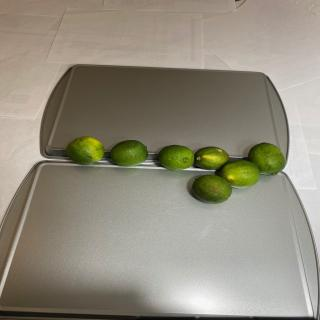Lemon: (248, 142, 286, 176), (191, 174, 232, 204), (220, 160, 260, 188), (66, 136, 104, 165), (110, 140, 148, 167), (158, 144, 194, 170), (194, 146, 229, 170)
